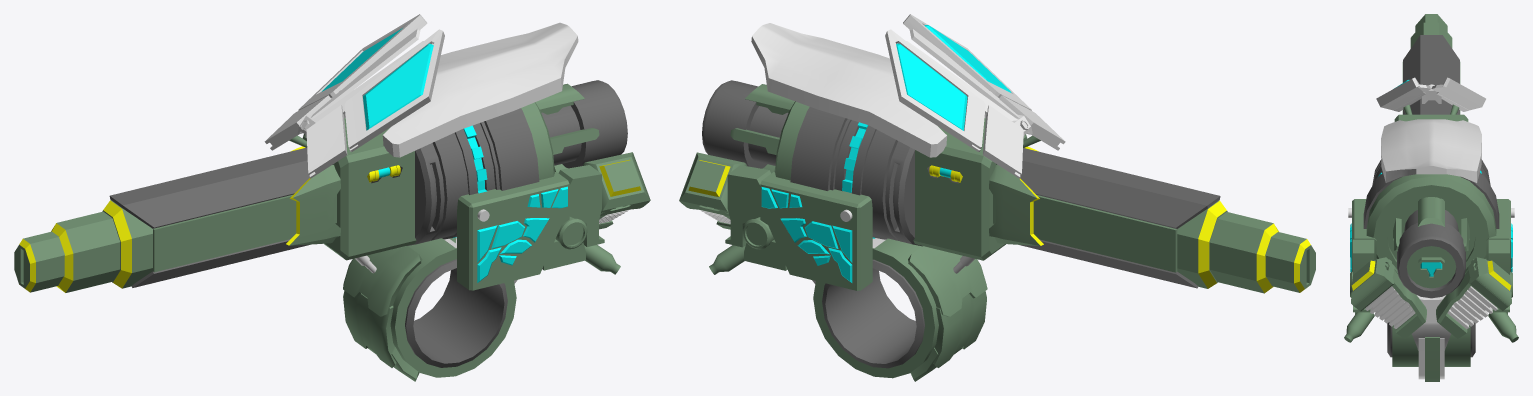
The model's file is Gazoullier.fbx.
The picture shows the model from 3 angles, left to right: view 1: azimuth 30°, elevation 25°; view 2: azimuth 150°, elevation 25°; view 3: azimuth 270°, elevation 25°; orthographic projection. The views are drawn at different scales.
Parts seen in each view (by area): view 1: gungeo1_pCube24; view 2: gungeo1_pCube24; view 3: gungeo1_pCube24.
Part boxes in pixels (<box>): gungeo1_pCube24: <box>14,14,650,381</box>; gungeo1_pCube24: <box>679,14,1315,381</box>; gungeo1_pCube24: <box>1344,14,1518,381</box>.
Size of the model in its own units: 142 by 79.33 by 43.7.
